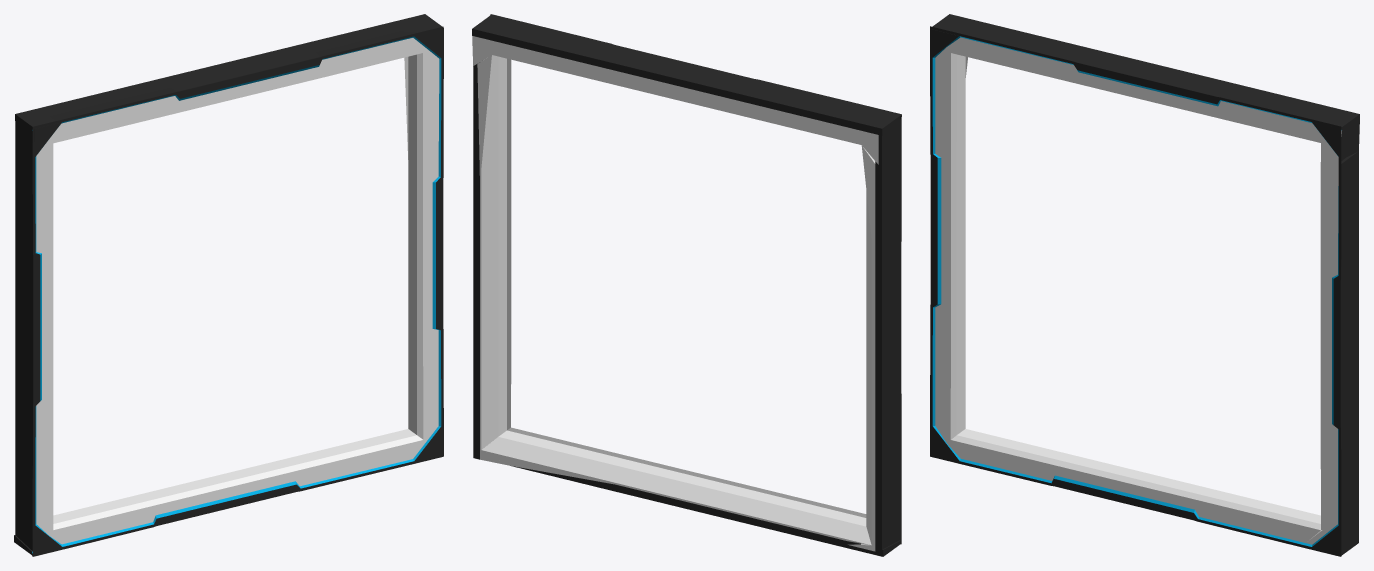
File: level_border.fbx
The picture shows the model from 3 angles, left to right: view 1: azimuth 30°, elevation 25°; view 2: azimuth 150°, elevation 25°; view 3: azimuth 330°, elevation 25°; orthographic projection.
Parts seen in each view (by area): view 1: pCube18; view 2: pCube18; view 3: pCube18.
Boxes of the visible parts, <box> form: pCube18: <box>14,14,443,556</box>; pCube18: <box>472,14,901,556</box>; pCube18: <box>930,14,1359,556</box>.
Size of the model in its own units: 1668 by 1668 by 140.
1 material, 1 textured.
